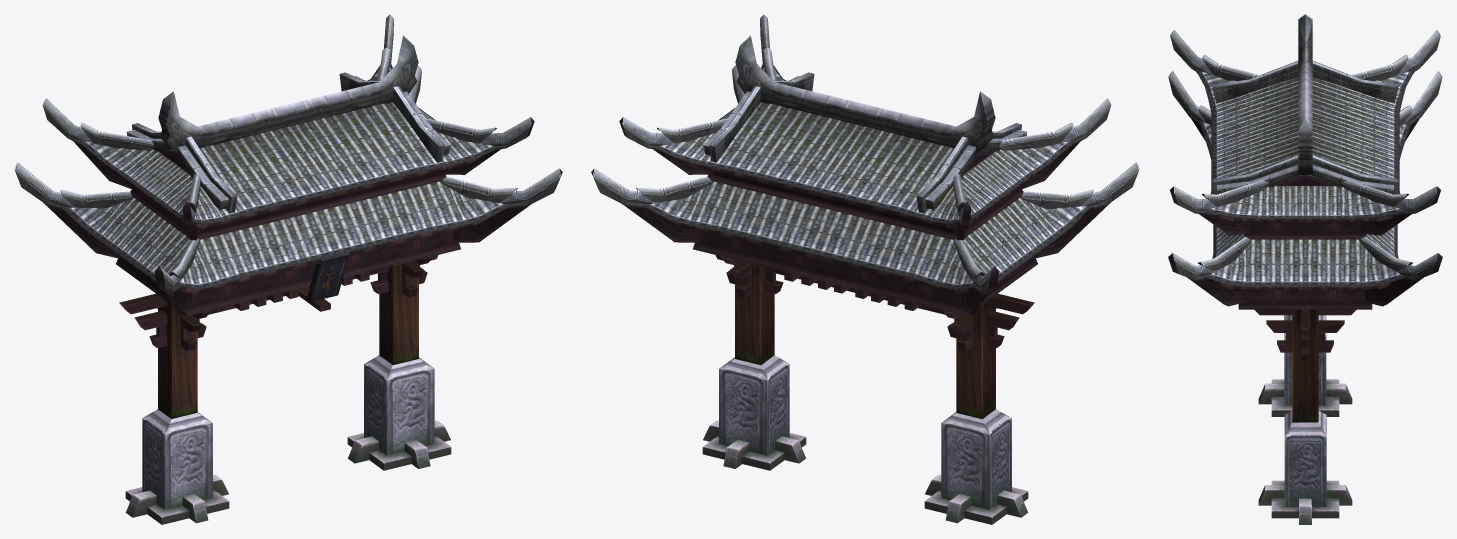
File: xcz_jz_06_LOD1.FBX
The picture shows the model from 3 angles, left to right: view 1: azimuth 30°, elevation 25°; view 2: azimuth 150°, elevation 25°; view 3: azimuth 270°, elevation 25°; orthographic projection. The views are drawn at different scales.
Visible parts, largest first — view 1: xcz_jz_06_LOD1; view 2: xcz_jz_06_LOD1; view 3: xcz_jz_06_LOD1.
Part boxes in pixels (bbox=[...]): xcz_jz_06_LOD1: bbox=[14, 14, 562, 524]; xcz_jz_06_LOD1: bbox=[591, 14, 1139, 524]; xcz_jz_06_LOD1: bbox=[1168, 14, 1442, 524].
Bounding box in the file's own units: 1968 × 1904 × 1228.
